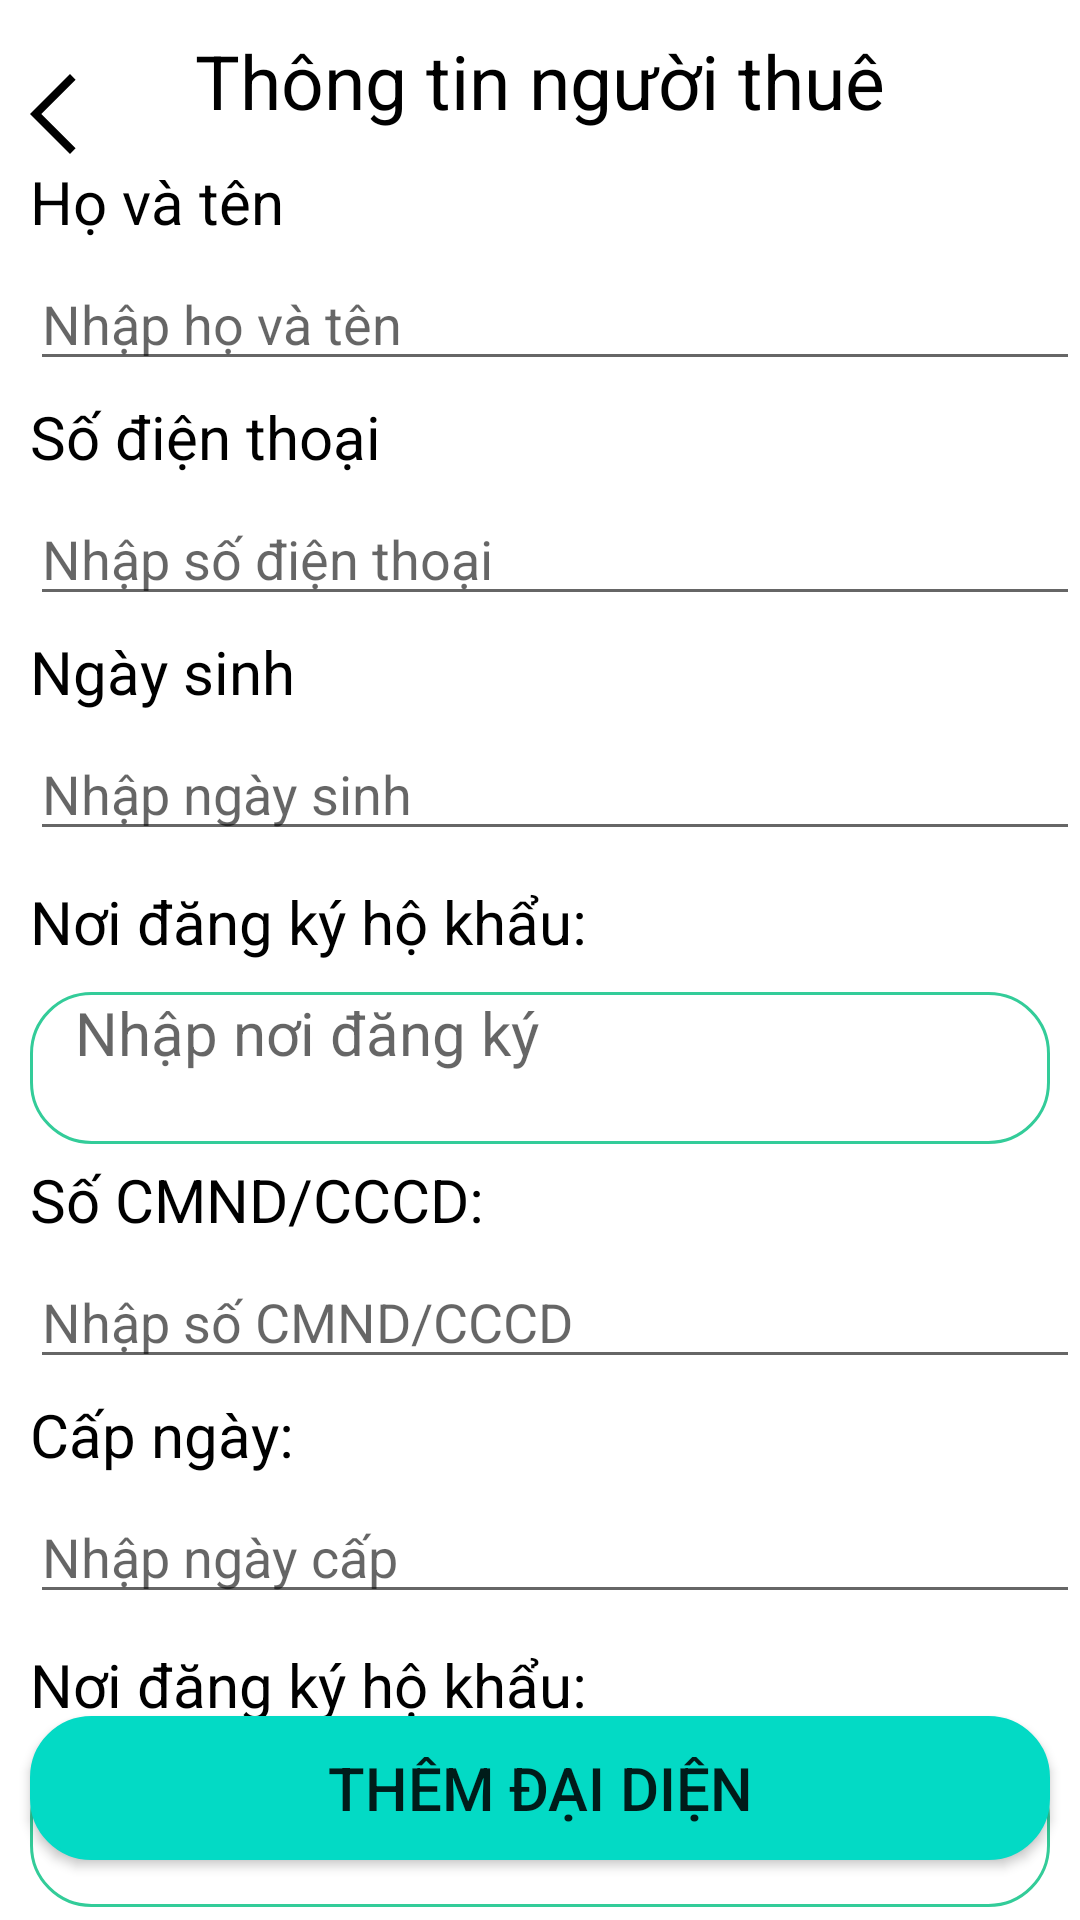

Point at icon controls on the screen. Image size 1080px x 1920px, points as (x,y).
arrow back: (53,114)
